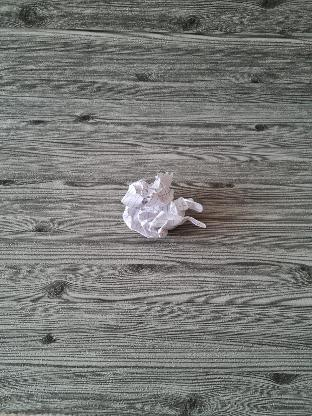Others: (122, 176, 204, 236)
